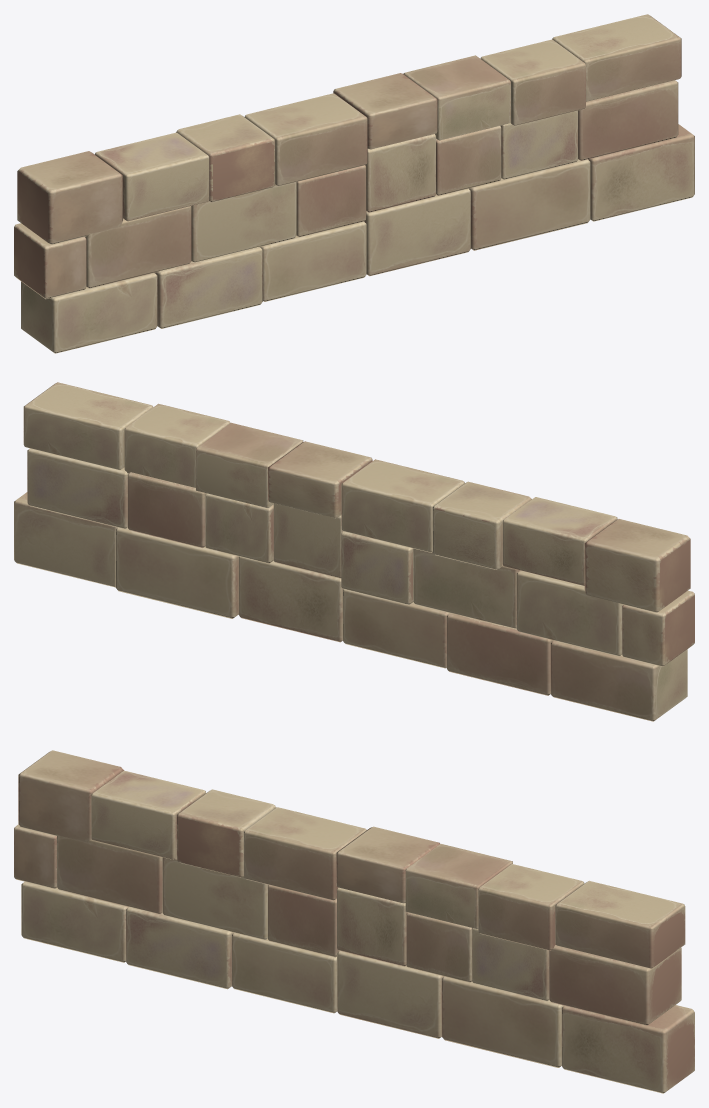
File: exteriorhalfwall2.fbx
The picture shows the model from 3 angles, top to bottom: view 1: azimuth 30°, elevation 25°; view 2: azimuth 150°, elevation 25°; view 3: azimuth 330°, elevation 25°; orthographic projection.
Parts seen in each view (by area): view 1: exteriorhalfwalllong_LOD0; view 2: exteriorhalfwalllong_LOD0; view 3: exteriorhalfwalllong_LOD0.
Boxes of the visible parts, left/top/right/bottom form: exteriorhalfwalllong_LOD0: left=14, top=14, right=694, bottom=353; exteriorhalfwalllong_LOD0: left=14, top=382, right=694, bottom=721; exteriorhalfwalllong_LOD0: left=14, top=750, right=694, bottom=1093.
Size of the model in its own units: 4.18 by 1.01 by 0.4337.
